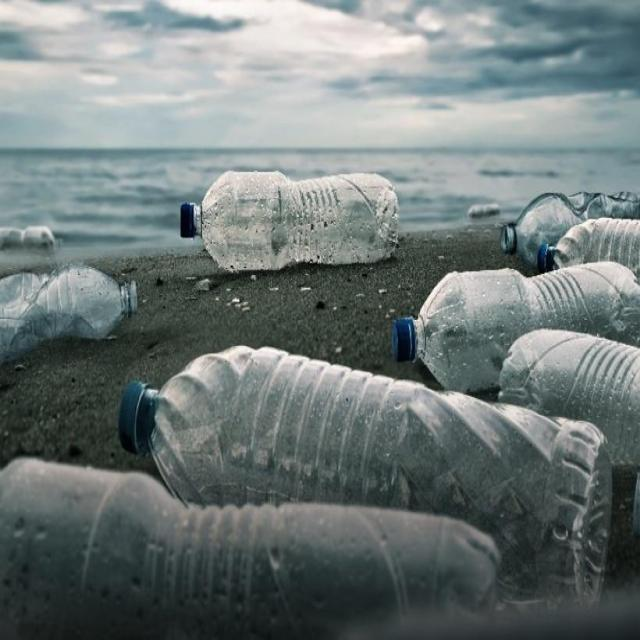plastic: (0, 343, 611, 640), (392, 264, 640, 460), (178, 166, 398, 271), (0, 268, 141, 371), (498, 187, 640, 268)
